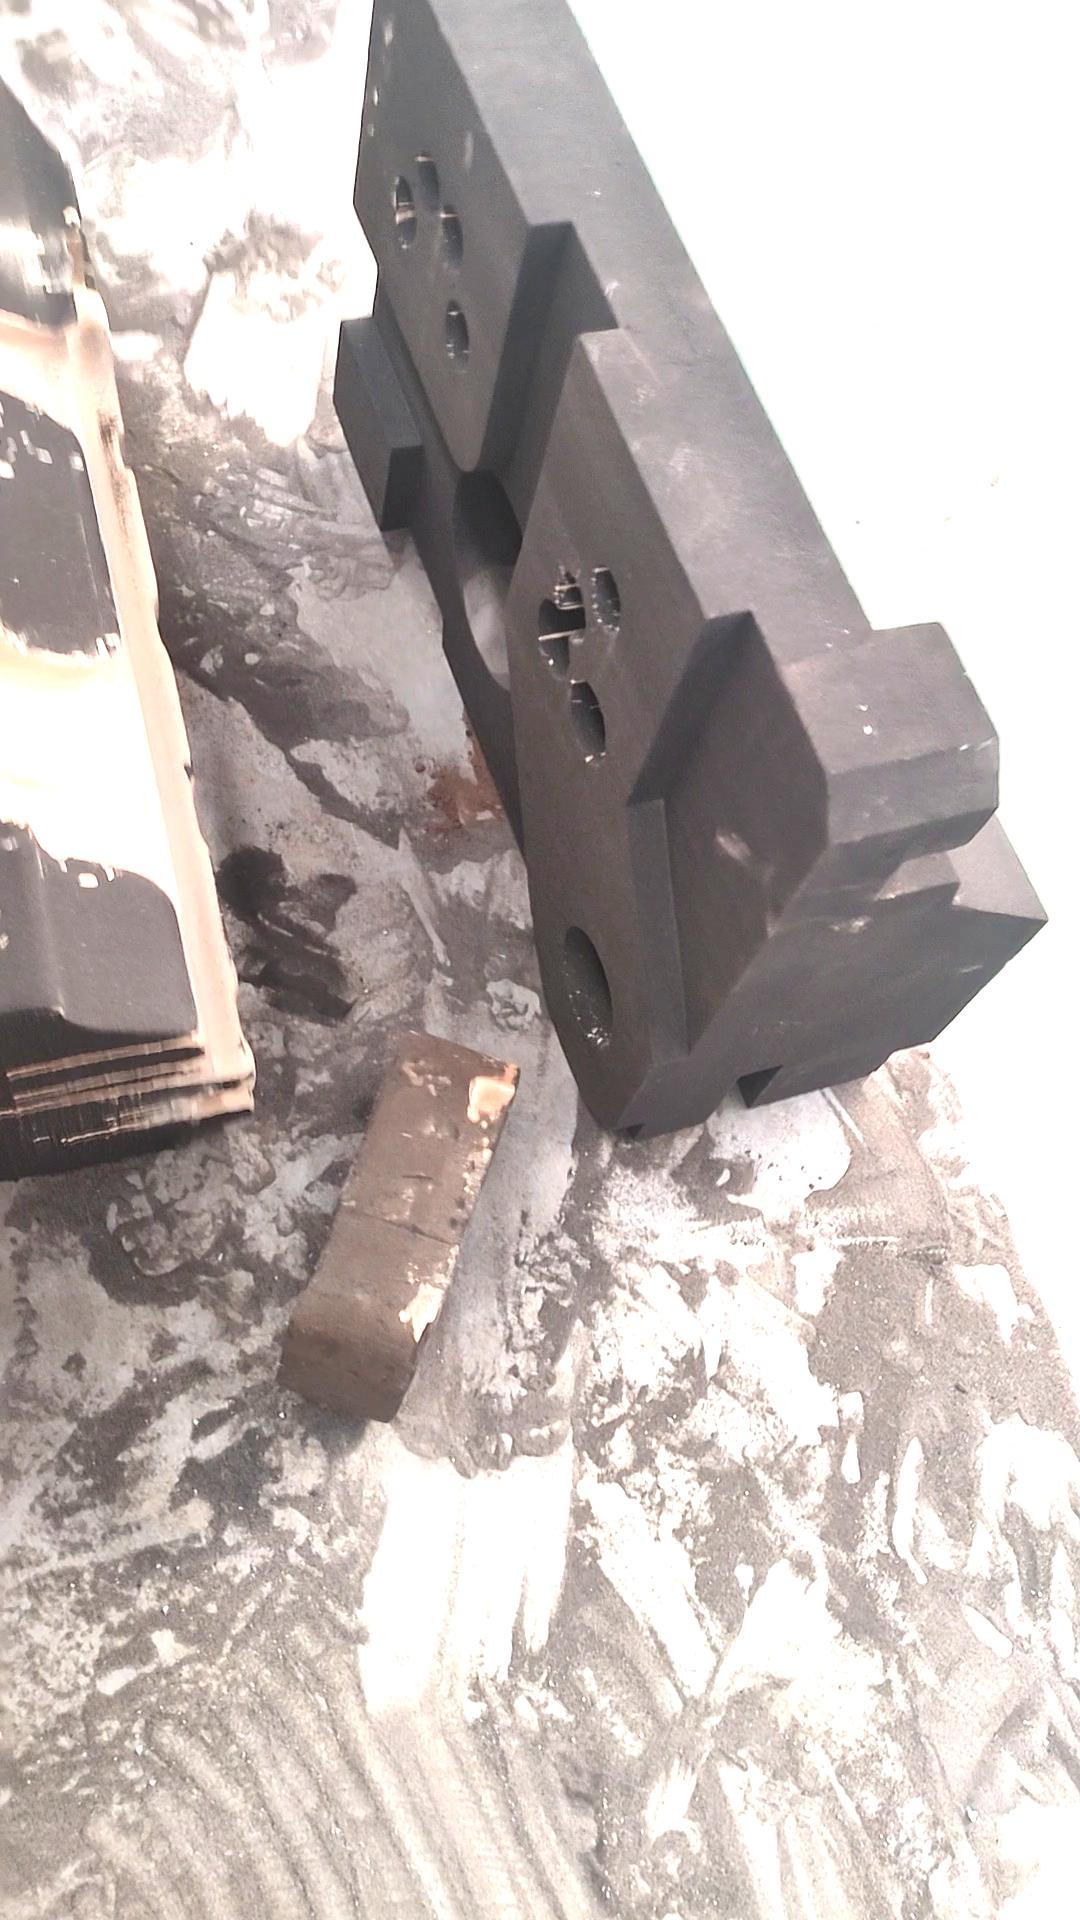pouring hole: (554, 924, 620, 1056)
